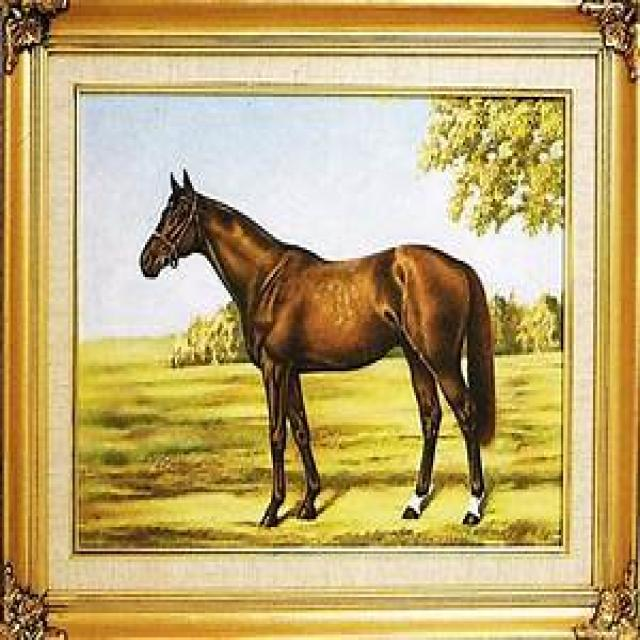horse: (141, 170, 495, 525)
